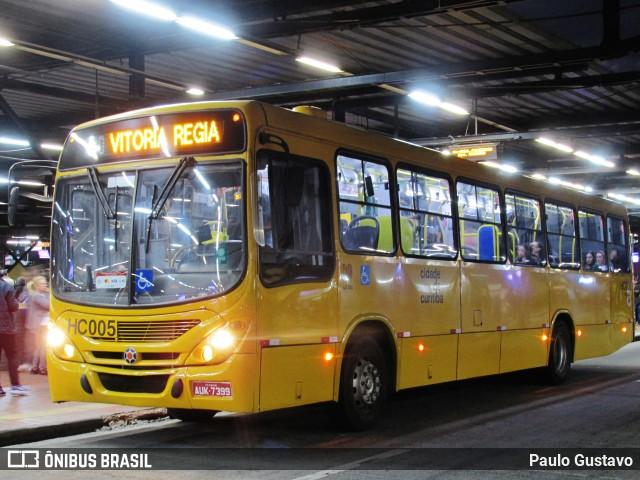VITORIA REGIA: (103, 115, 225, 157)
